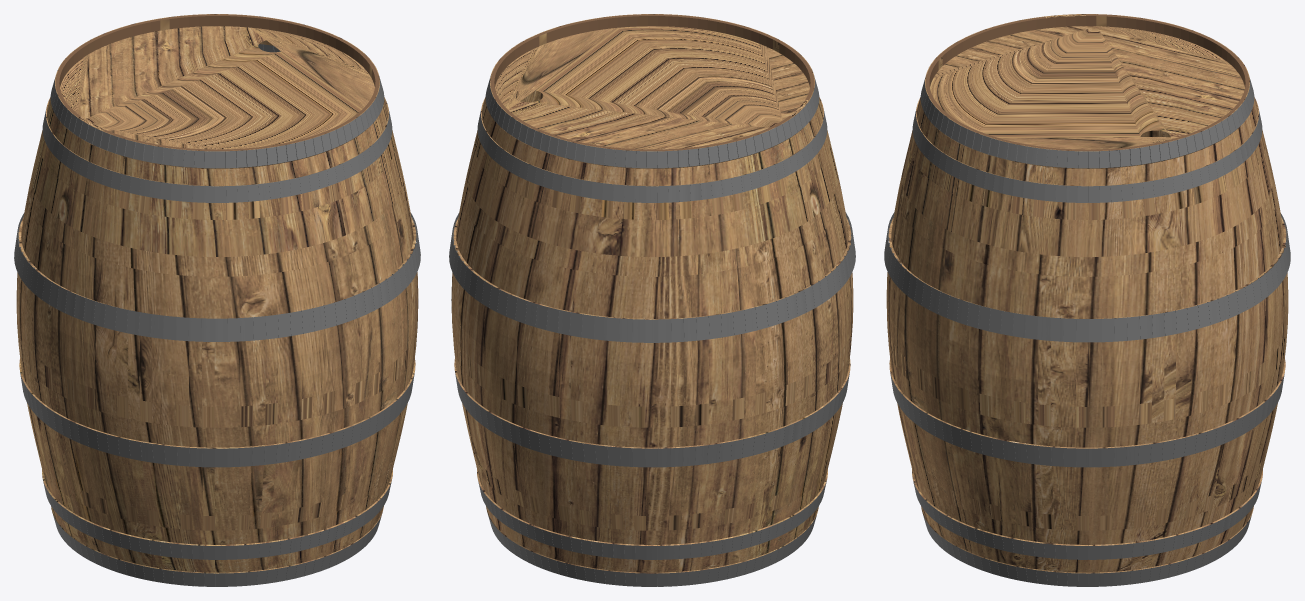
The model's file is Barrel.fbx.
The picture shows the model from 3 angles, left to right: view 1: azimuth 30°, elevation 25°; view 2: azimuth 150°, elevation 25°; view 3: azimuth 270°, elevation 25°; orthographic projection.
Visible parts, largest first — view 1: polySurface3301; view 2: polySurface3301; view 3: polySurface3301.
Part boxes in pixels (box(x1,y1,x2,y2)): polySurface3301: box(14, 14, 420, 586); polySurface3301: box(449, 14, 855, 586); polySurface3301: box(884, 14, 1290, 586).
Bounding box in the file's own units: 53.92 × 63.73 × 53.91.
Materials: 3 (3 with a texture image).
